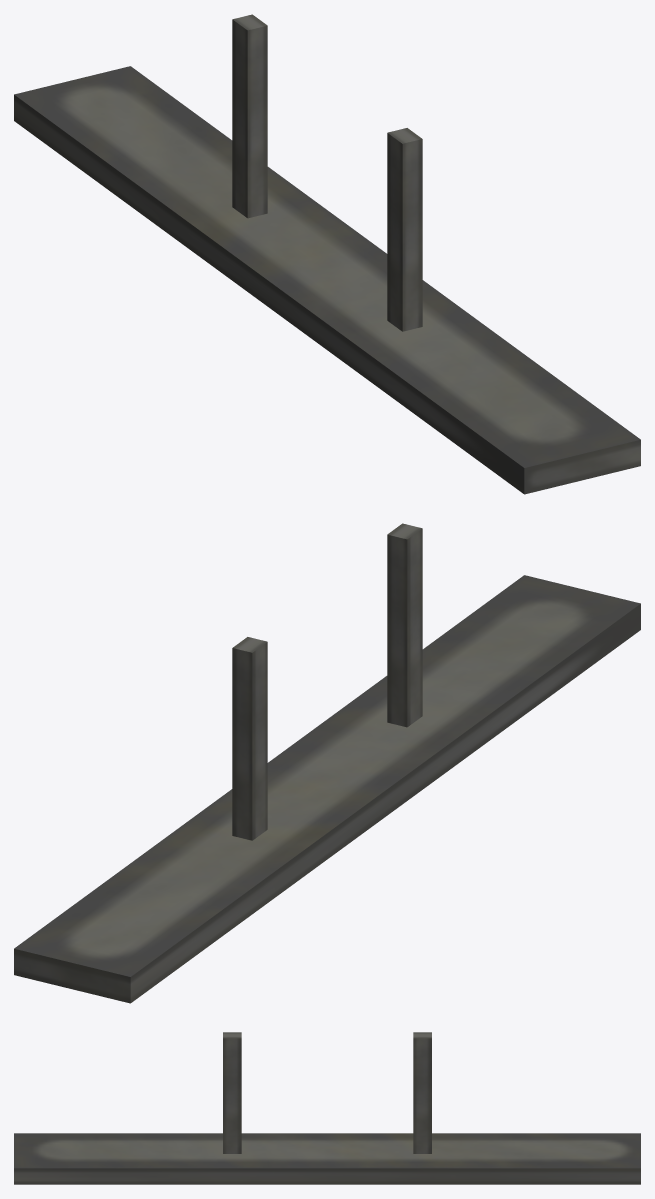
File: LP_LAMP.fbx
3 views of the same model, one above another, from view 1: azimuth 30°, elevation 25°; view 2: azimuth 150°, elevation 25°; view 3: azimuth 270°, elevation 25° (orthographic). The views are drawn at different scales.
Visible parts, largest first — view 1: Cube; view 2: Cube; view 3: Cube.
Part boxes in pixels (x1,y1,x2,y2): Cube: (14, 14, 640, 494); Cube: (14, 523, 640, 1003); Cube: (14, 1032, 640, 1184).
Bounding box in the file's own units: 200 × 351 × 1516.
